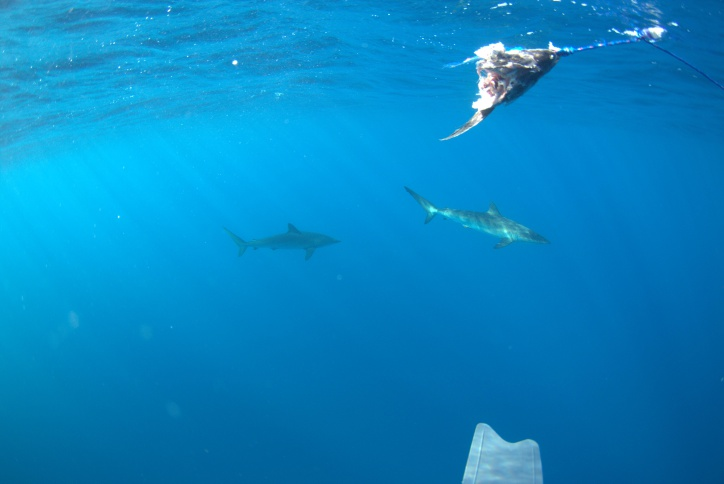Sedoso: (389, 173, 563, 261)
